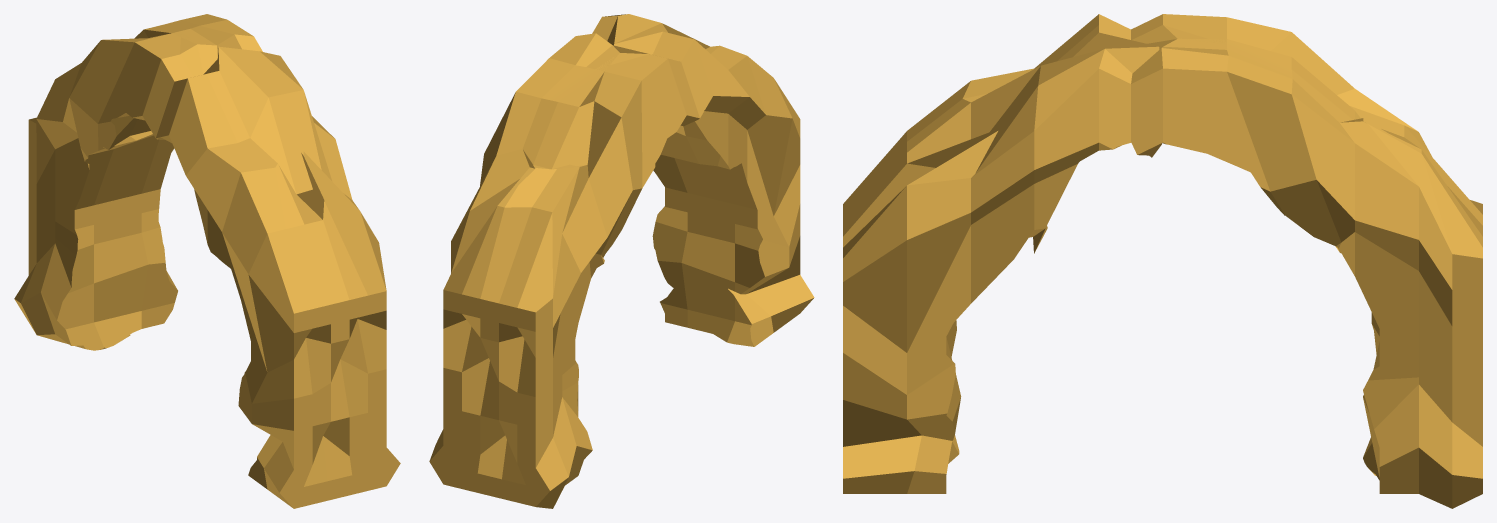
File: Parede_tipo_2.fbx
3 views of the same model, side by side, from view 1: azimuth 30°, elevation 25°; view 2: azimuth 150°, elevation 25°; view 3: azimuth 270°, elevation 25° (orthographic). The views are drawn at different scales.
Visible parts, largest first — view 1: Parede tipo 2; view 2: Parede tipo 2; view 3: Parede tipo 2.
Part boxes in pixels (bbox=[...]): Parede tipo 2: bbox=[14, 14, 400, 508]; Parede tipo 2: bbox=[429, 14, 814, 508]; Parede tipo 2: bbox=[843, 14, 1482, 508].
Size of the model in its own units: 161 by 379 by 492.
